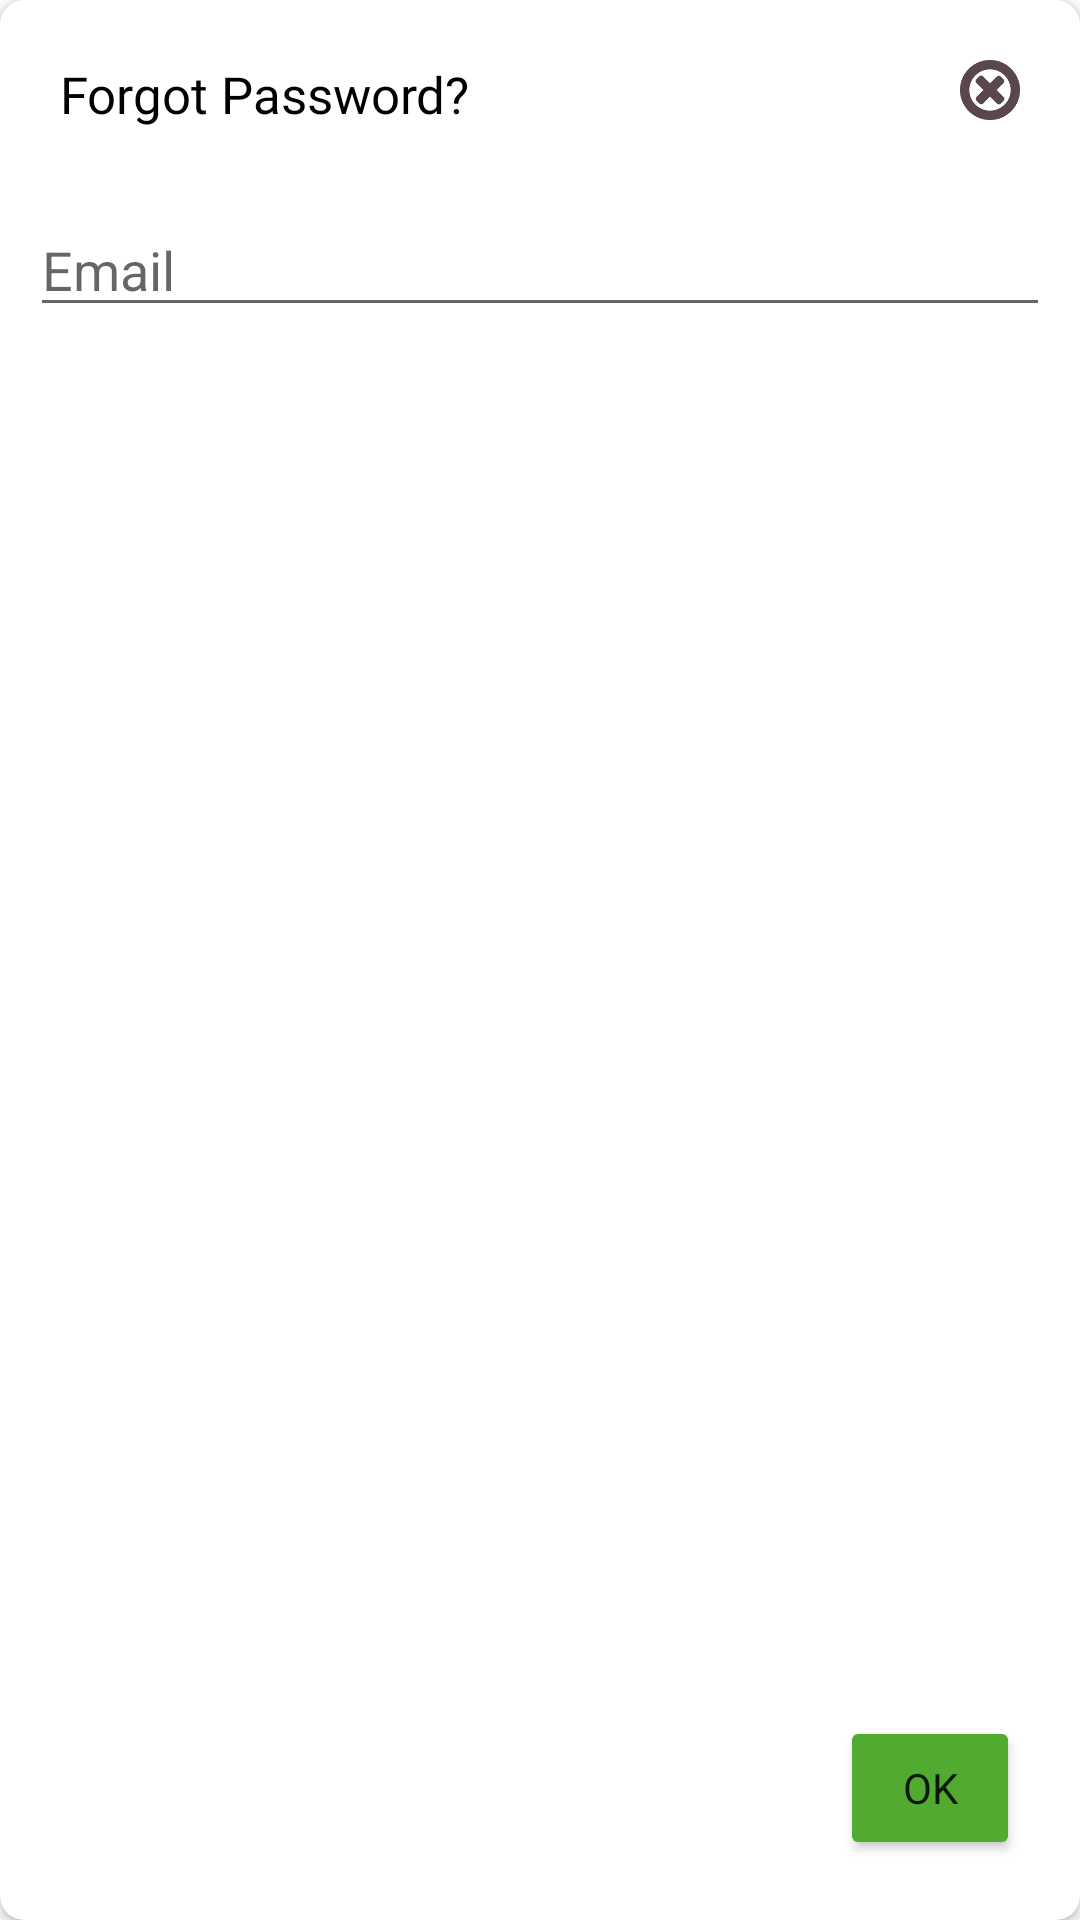

Point at icon controls on the screen. Image size 1080x1920, points as point (x, y).
cross: point (990, 90)
